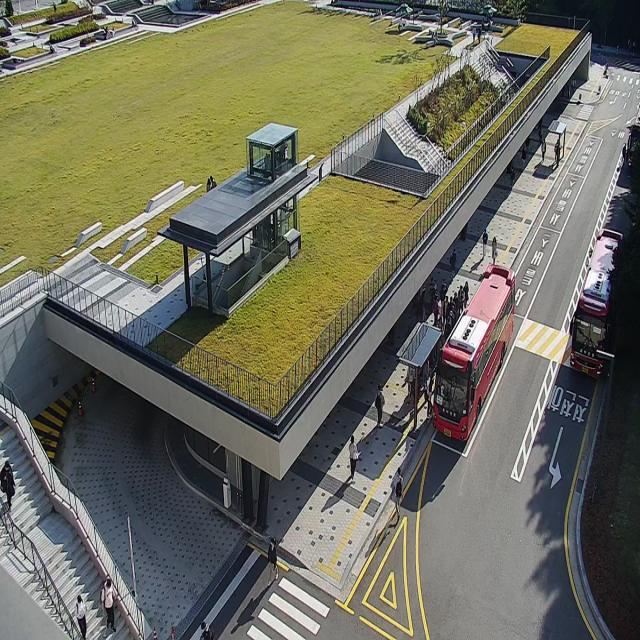queue: (415, 280, 469, 428)
